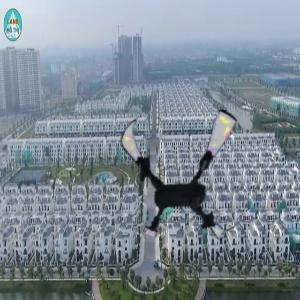drone: (112, 99, 258, 245)
